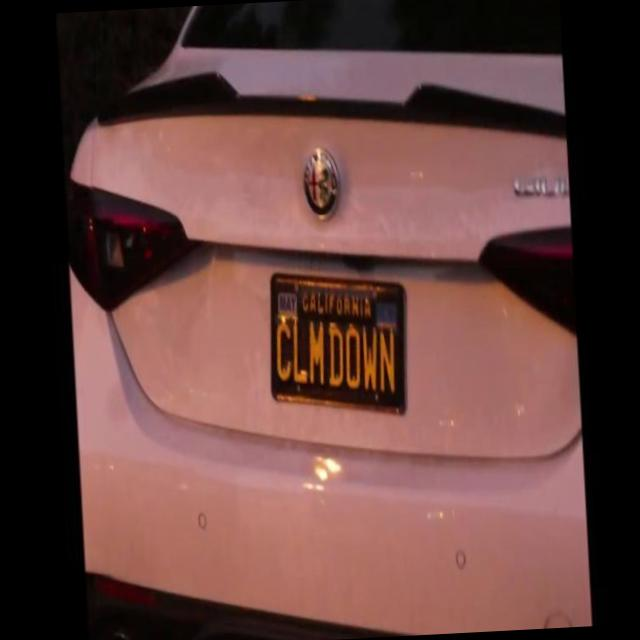LicensePlate: (262, 245, 424, 441)
